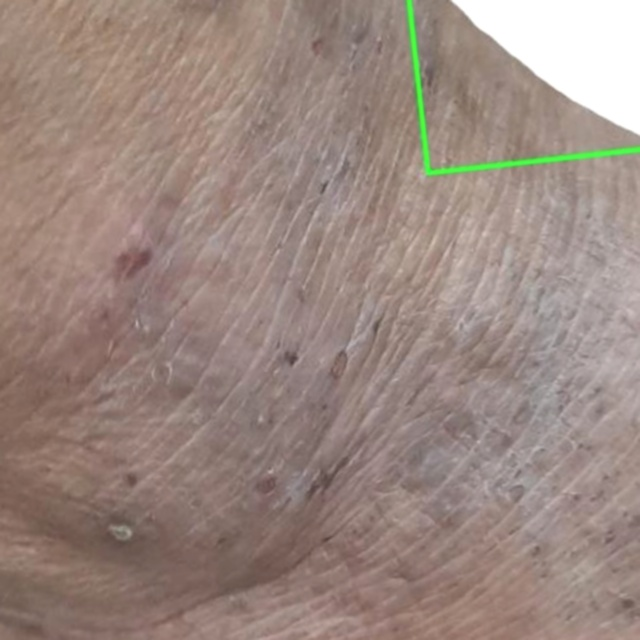Contact Dermatitis: (409, 0, 639, 172)
